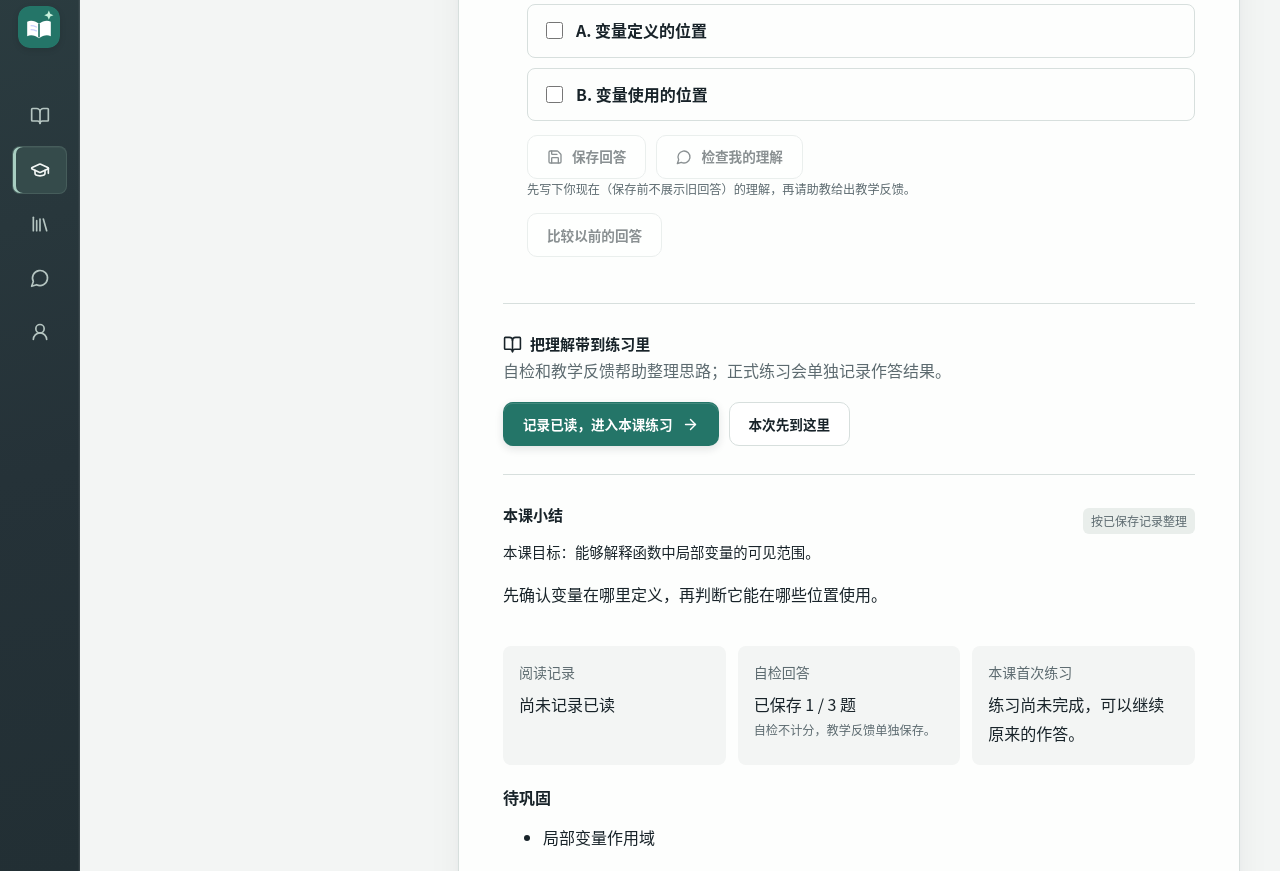
one lesson learning flow › retries the same read=true intent only after the learner reviews a newer revision
(page scrolled)
Click the button "记录已读，进入本课练习" at {"x": 611, "y": 424}, box [503,402,718,446]
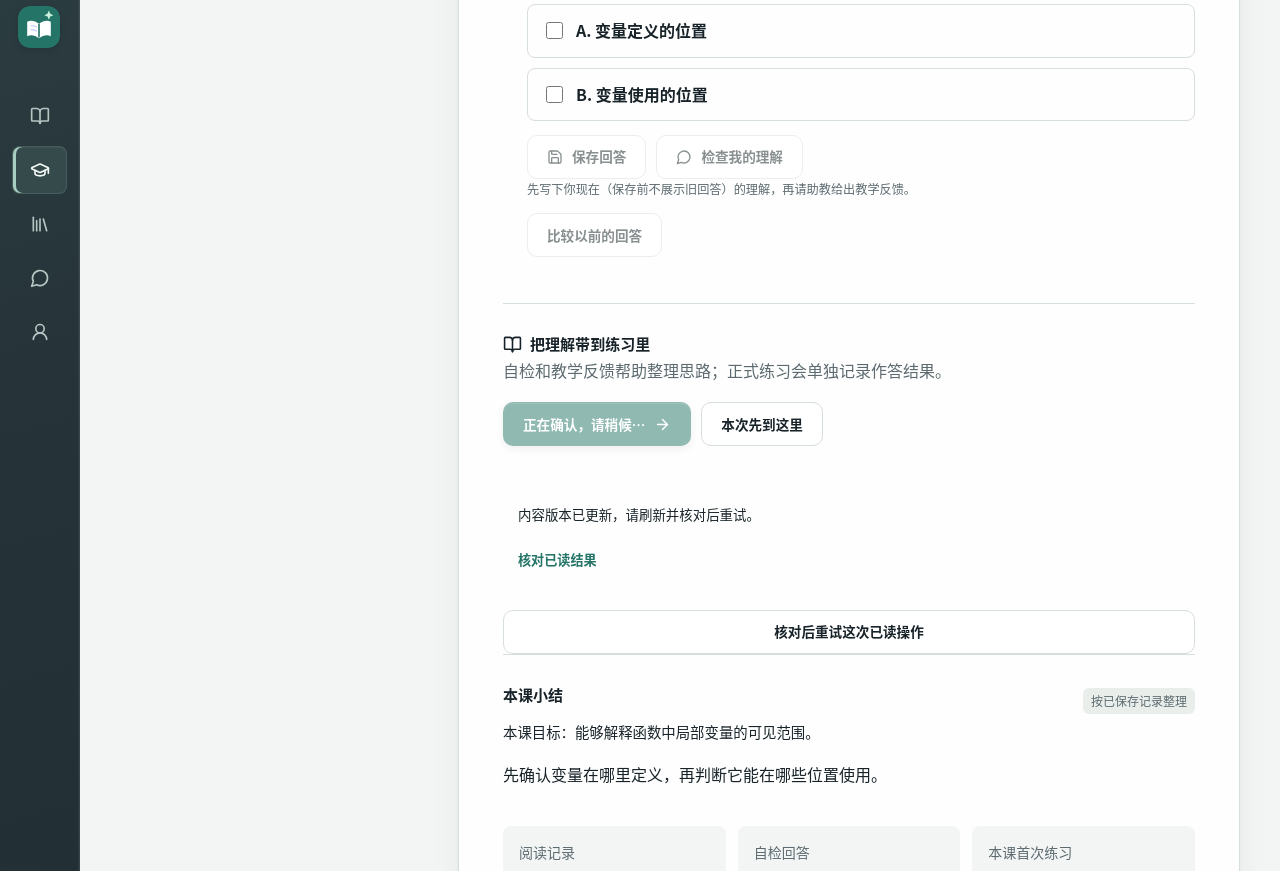
Expected: the heading "变量作用域 · 本课三题" is not shown
Click the button "核对后重试这次已读操作" at {"x": 849, "y": 632}, box [503,610,1195,654]
(page scrolled)
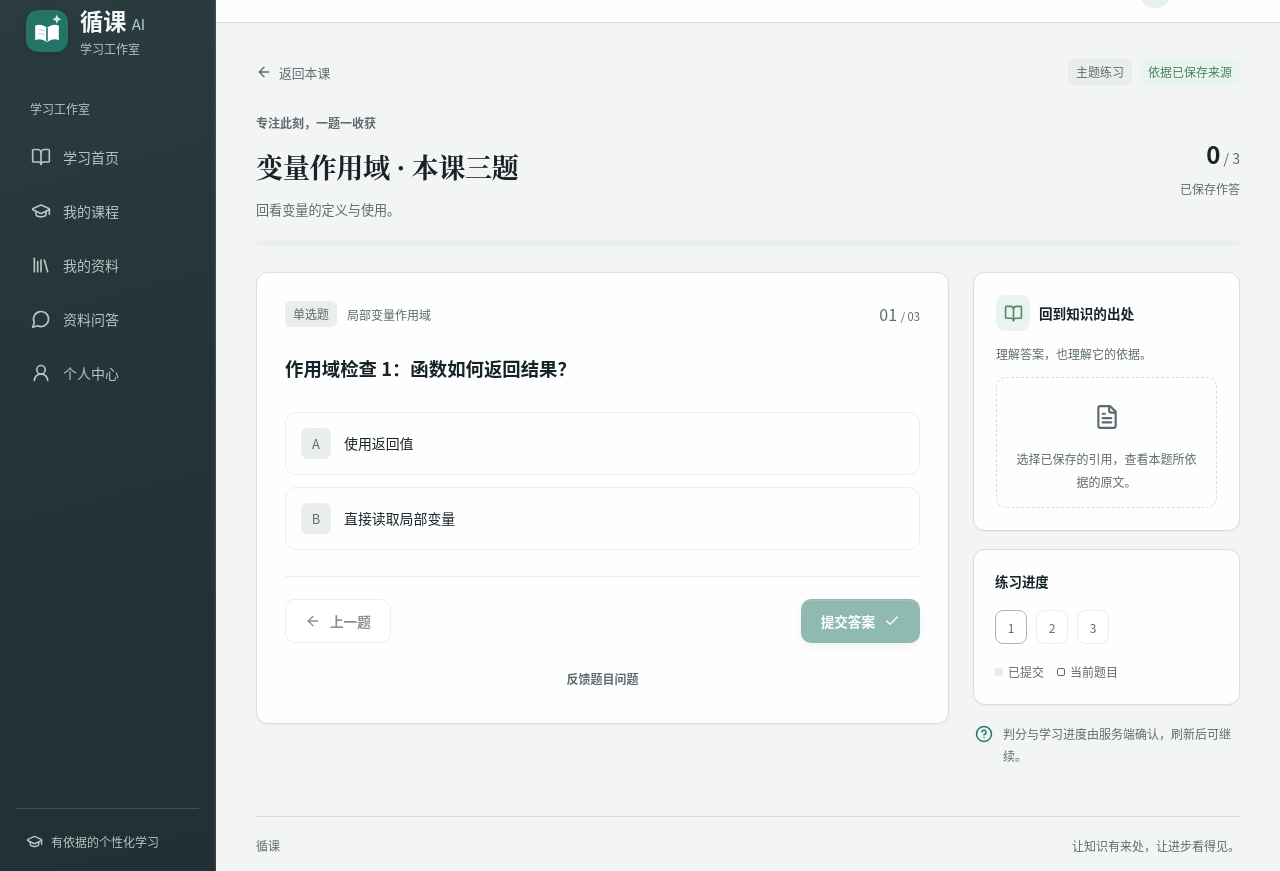
Expected: the heading "变量作用域 · 本课三题" is shown, [256,147,518,188]
